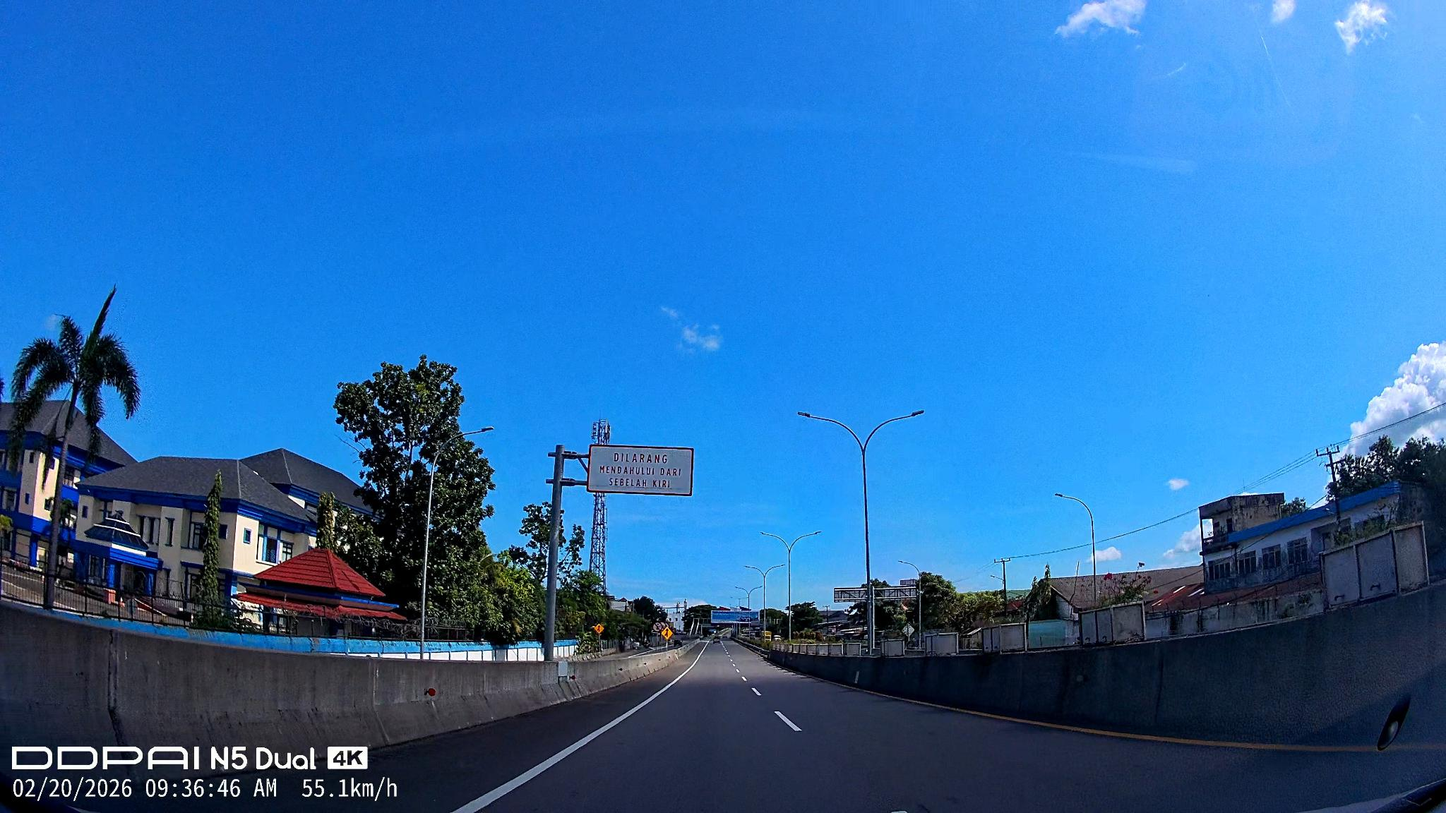rambu_teks: (586, 444, 695, 497)
